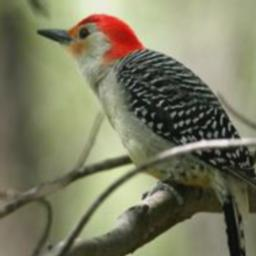Woodpecker: (36, 11, 256, 256)
